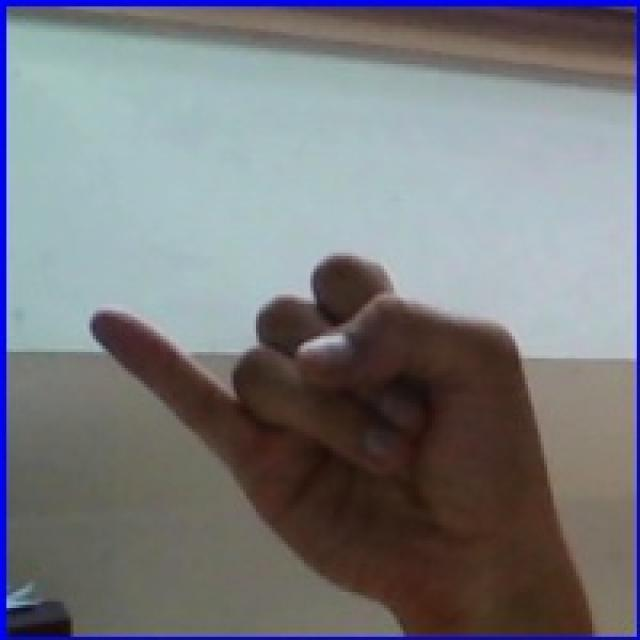J: (56, 152, 594, 607)
